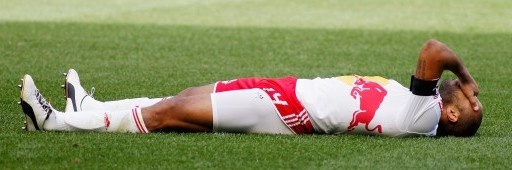falling: (6, 5, 500, 146)
